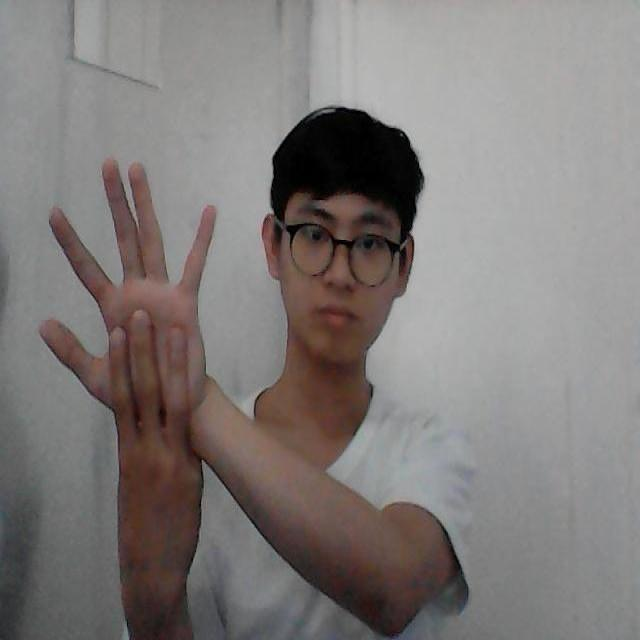M: (22, 149, 236, 440)
